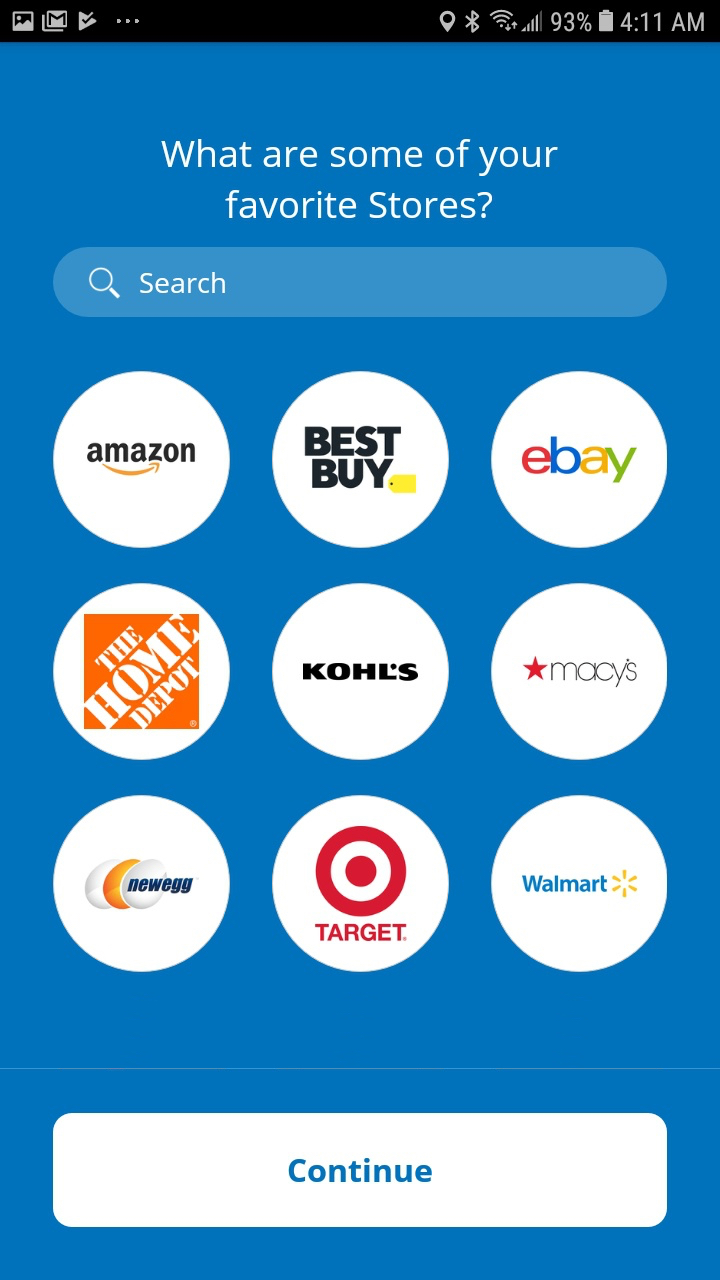EditText: (53, 247, 668, 318)
Icon: (89, 267, 122, 300)
Image: (271, 370, 450, 549), (271, 794, 450, 973), (490, 370, 668, 549), (53, 583, 232, 761), (490, 794, 668, 973), (53, 371, 231, 549), (272, 583, 450, 761), (53, 795, 231, 973), (491, 583, 668, 761)
Text: (161, 139, 559, 220), (141, 272, 227, 295)
TextButton: (53, 1112, 668, 1228)
UpperTaskBar: (1, 1, 720, 43)
